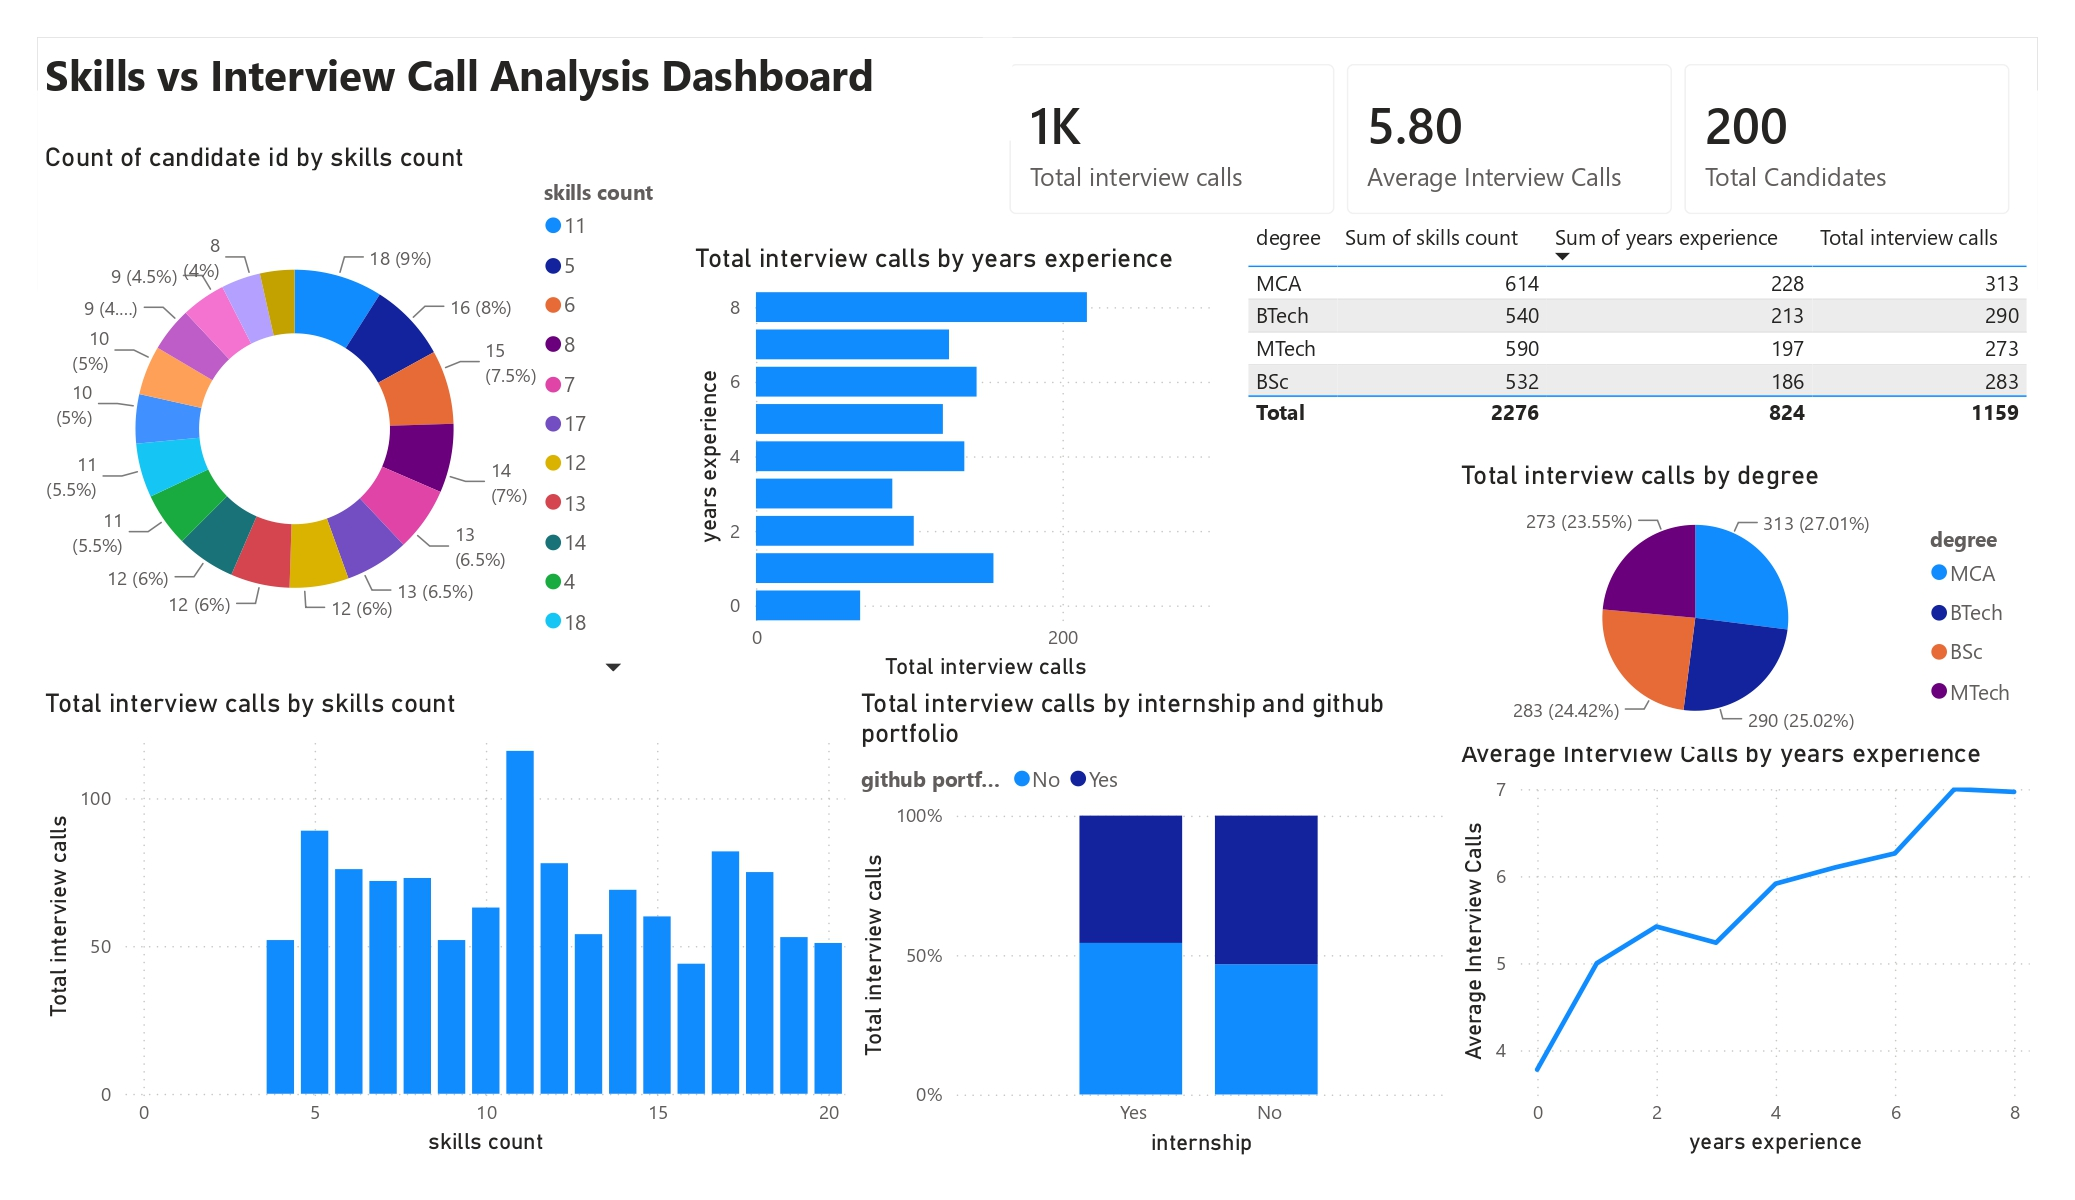

Layout of this report page (visuals, bound fields, positions):
{"tool":"powerbi","page":{"name":"Page 1","canvas":[1280,720],"ordinal":0},"visuals":[{"type":"cardVisual","fields":{"Data":["resume_skills_vs_interview_calls.Total interview calls","resume_skills_vs_interview_calls.Average Interview Calls","resume_skills_vs_interview_calls.Total Candidates"]},"box":[605.3,0,675,130.8],"z":0},{"type":"clusteredColumnChart","fields":{"Category":["resume_skills_vs_interview_calls.skills count"],"Y":["resume_skills_vs_interview_calls.Total interview calls"]},"box":[0,415.8,522.1,304.5],"z":1000},{"type":"barChart","fields":{"Category":["resume_skills_vs_interview_calls.years experience"],"Y":["resume_skills_vs_interview_calls.Total interview calls"]},"box":[415.8,130.8,353.4,284.9],"z":2000},{"type":"donutChart","fields":{"Category":["resume_skills_vs_interview_calls.skills count"],"Y":["CountNonNull(resume_skills_vs_interview_calls.candidate id)"]},"box":[0,66,415.8,349.7],"z":3000},{"type":"tableEx","fields":{"Values":["resume_skills_vs_interview_calls.degree","Sum(resume_skills_vs_interview_calls.skills count)","Sum(resume_skills_vs_interview_calls.years experience)","resume_skills_vs_interview_calls.Total interview calls"]},"box":[769.2,112.5,511.1,157.7],"z":4000},{"type":"actionButton","box":[0,0,100,40],"z":5000},{"type":"textbox","box":[0,0,623.6,66],"z":6000},{"type":"hundredPercentStackedColumnChart","fields":{"Category":["resume_skills_vs_interview_calls.internship"],"Y":["resume_skills_vs_interview_calls.Total interview calls"],"Series":["resume_skills_vs_interview_calls.github portfolio"]},"box":[522.1,415.8,384,304.5],"z":7000},{"type":"lineChart","fields":{"Category":["resume_skills_vs_interview_calls.years experience"],"Y":["resume_skills_vs_interview_calls.Average Interview Calls"]},"box":[906.1,447.6,374.2,272.7],"z":8000},{"type":"pieChart","fields":{"Category":["resume_skills_vs_interview_calls.degree"],"Y":["resume_skills_vs_interview_calls.Total interview calls"]},"box":[906.1,270.2,374.2,183.4],"z":9000}]}

Visuals, with their boxes on the page's 1280x720 design canvas (x1, y1, x2, y2). These are canvas units, not pixel positions in the 2075x1200 screenshot, which may show the page scaled, cropped or inside an application window:
cardVisual - resume_skills_vs_interview_calls.Total interview calls x resume_skills_vs_interview_calls.Average Interview Calls: [605, 0, 1280, 131]
clusteredColumnChart - resume_skills_vs_interview_calls.skills count x resume_skills_vs_interview_calls.Total interview calls: [0, 416, 522, 720]
barChart - resume_skills_vs_interview_calls.years experience x resume_skills_vs_interview_calls.Total interview calls: [416, 131, 769, 416]
donutChart - resume_skills_vs_interview_calls.skills count x CountNonNull(resume_skills_vs_interview_calls.candidate id): [0, 66, 416, 416]
tableEx - resume_skills_vs_interview_calls.degree x Sum(resume_skills_vs_interview_calls.skills count): [769, 112, 1280, 270]
actionButton: [0, 0, 100, 40]
textbox: [0, 0, 624, 66]
hundredPercentStackedColumnChart - resume_skills_vs_interview_calls.internship x resume_skills_vs_interview_calls.Total interview calls: [522, 416, 906, 720]
lineChart - resume_skills_vs_interview_calls.years experience x resume_skills_vs_interview_calls.Average Interview Calls: [906, 448, 1280, 720]
pieChart - resume_skills_vs_interview_calls.degree x resume_skills_vs_interview_calls.Total interview calls: [906, 270, 1280, 454]
